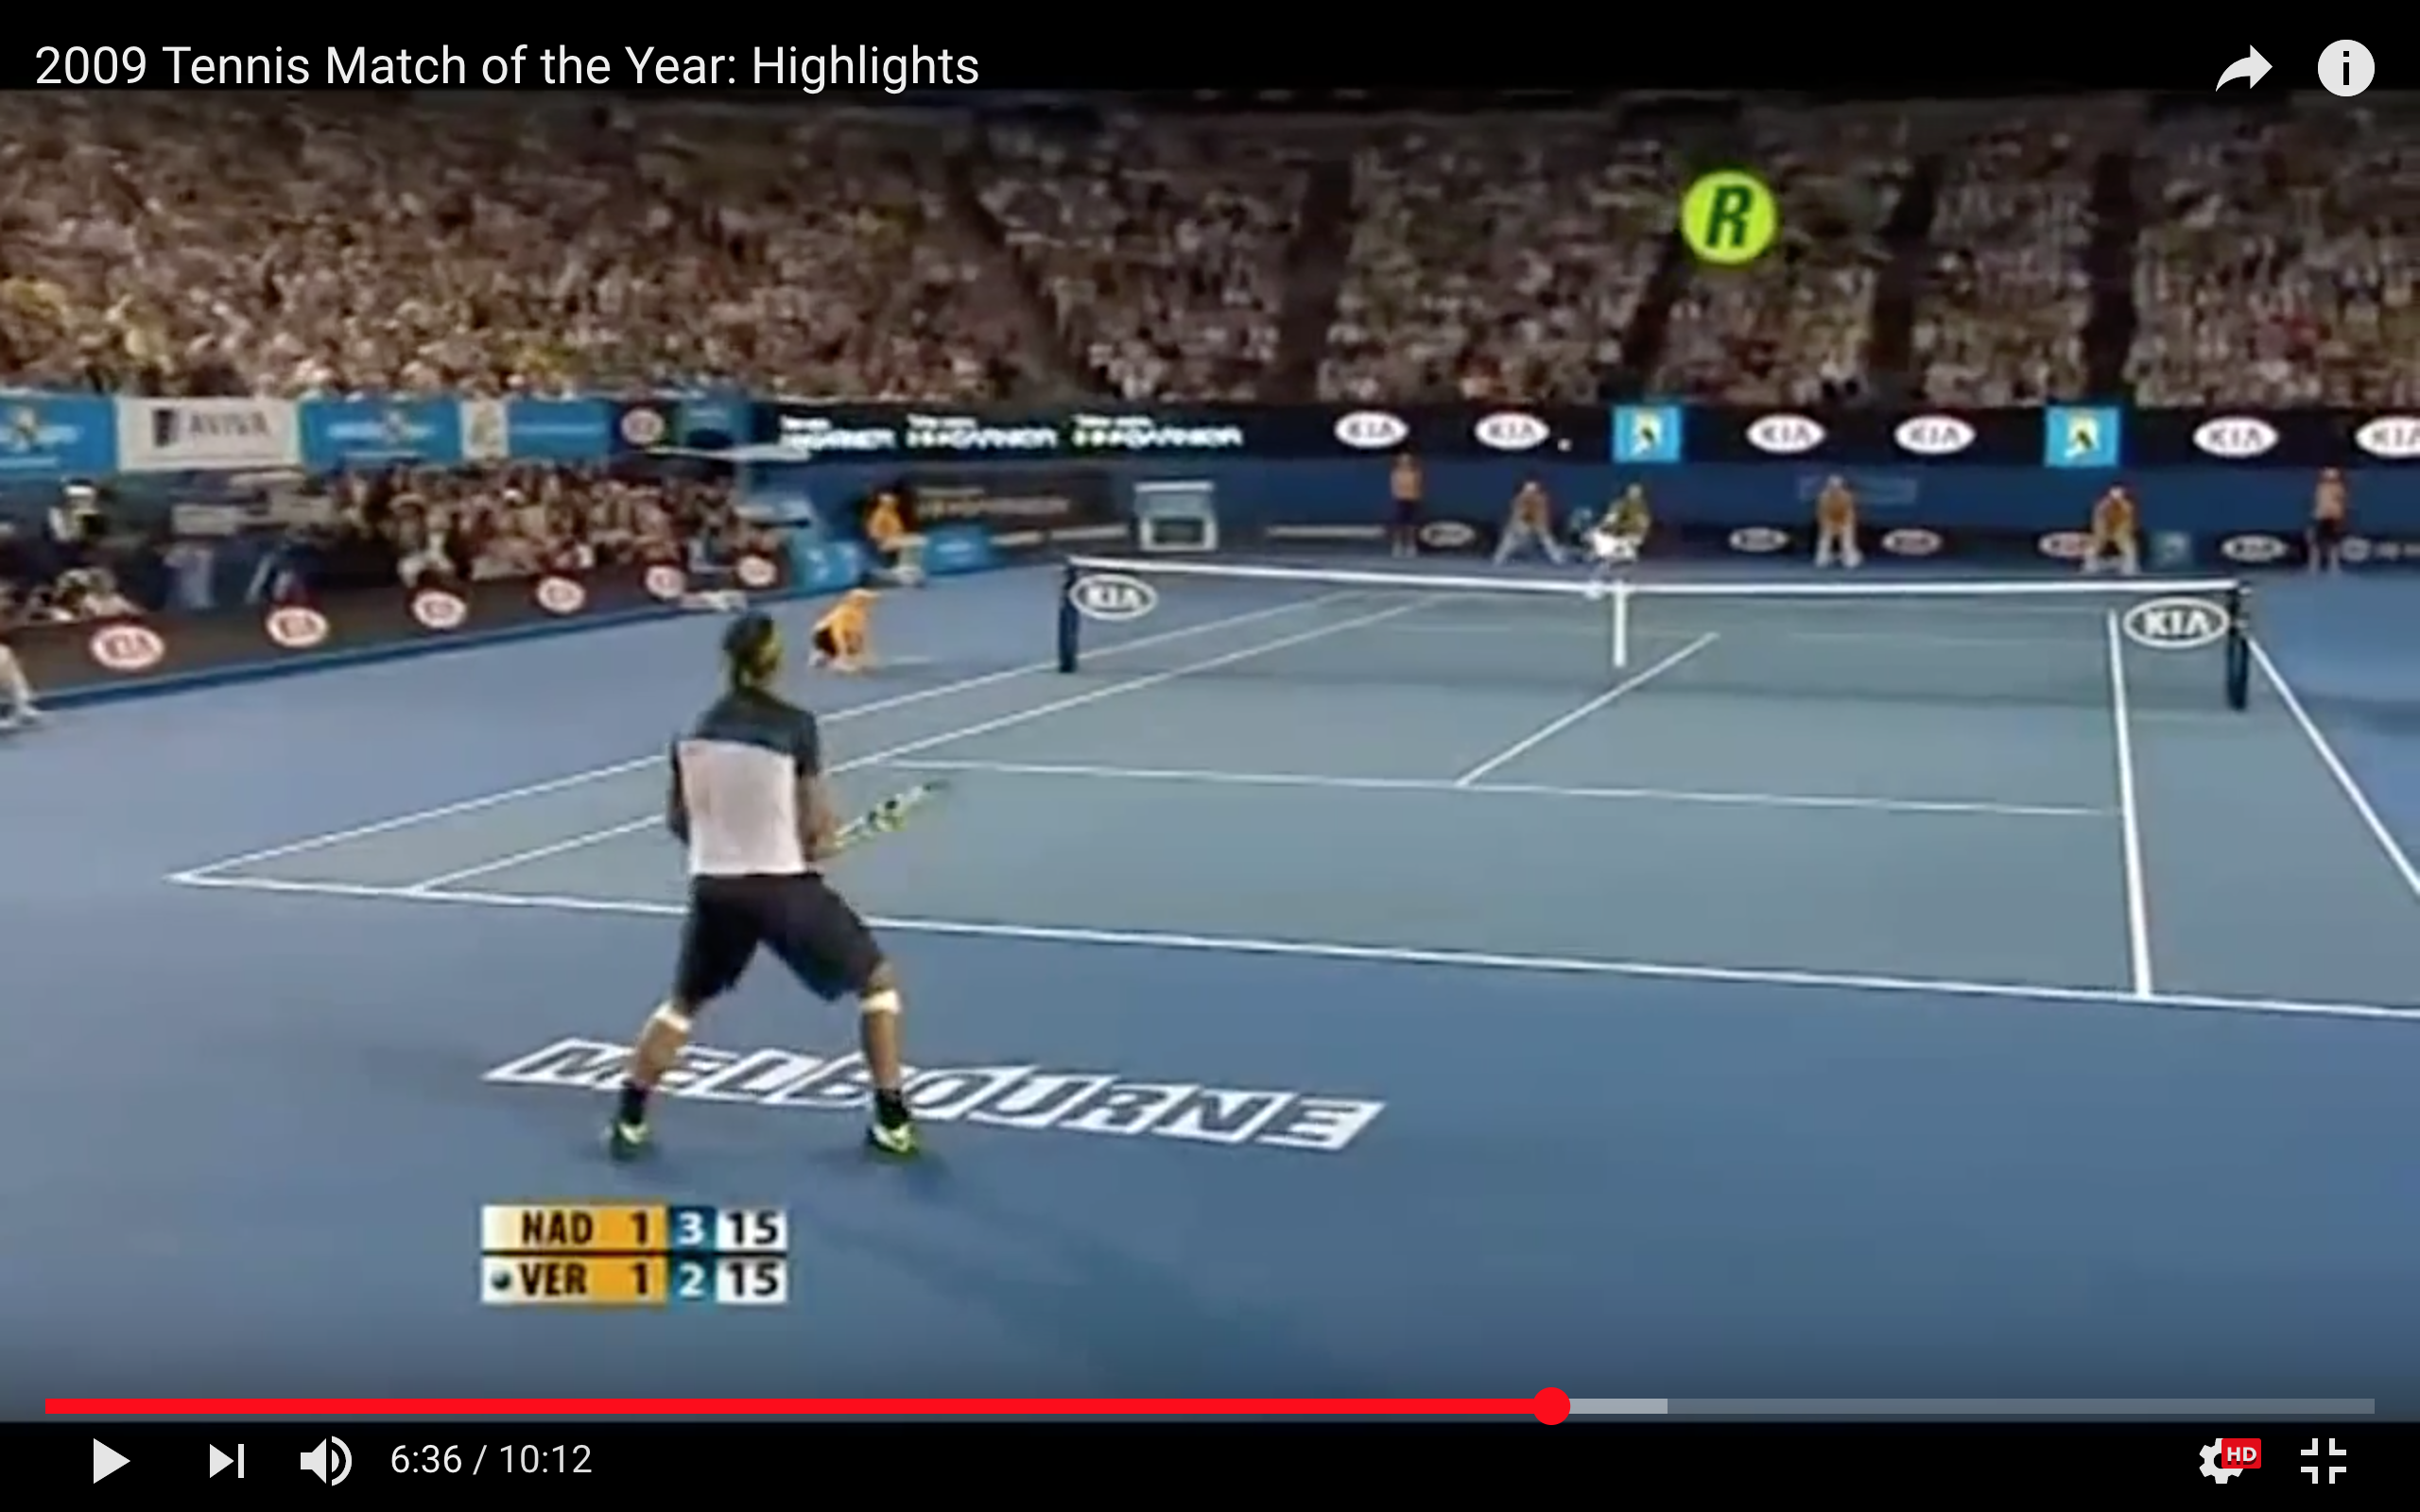tennis ball: (1553, 434, 1575, 458)
tennis player: (588, 610, 930, 1168), (1586, 486, 1668, 572)
